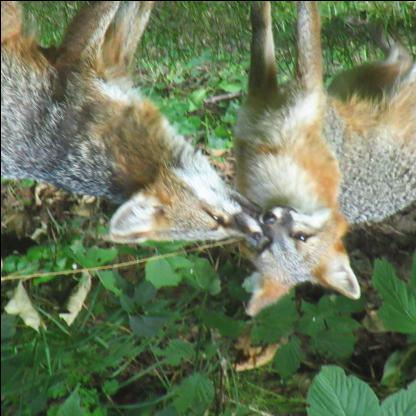zorro: (0, 0, 266, 249), (224, 1, 415, 322)
